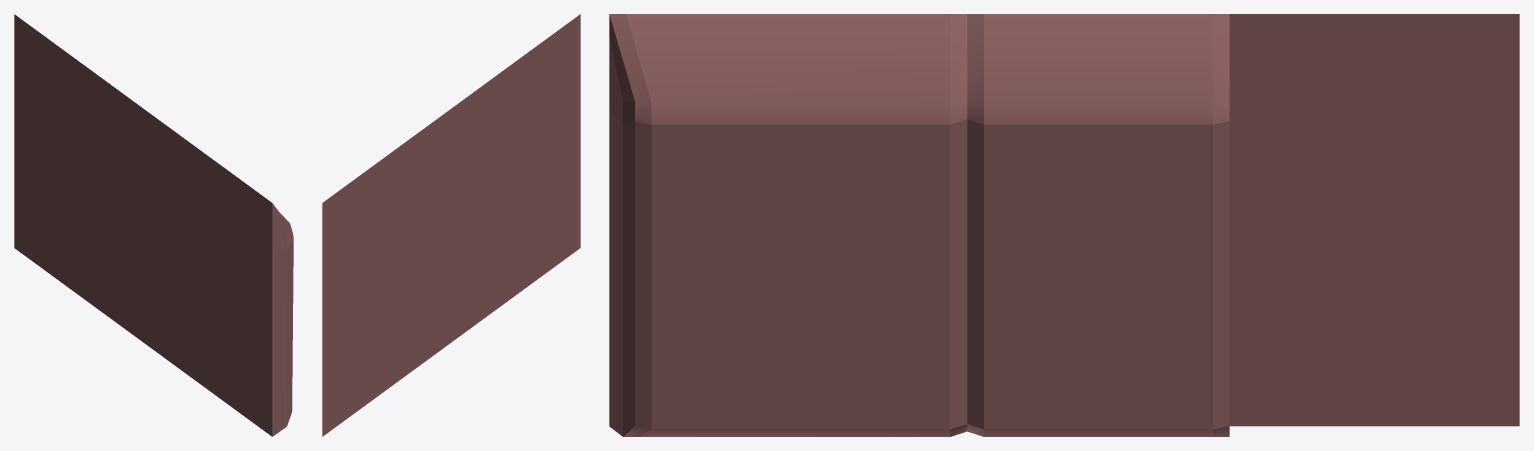
The model's file is Module_Ss_wall_A2.FBX.
3 renders of one model, left to right at view 1: azimuth 30°, elevation 25°; view 2: azimuth 150°, elevation 25°; view 3: azimuth 270°, elevation 25°, orthographic. The views are drawn at different scales.
Parts seen in each view (by area): view 1: Module_Ss_wall_A2; view 2: Module_Ss_wall_A2; view 3: Module_Ss_wall_A2.
Part boxes in pixels (x1,y1,x2,y2): Module_Ss_wall_A2: (14,14,293,436); Module_Ss_wall_A2: (322,14,580,436); Module_Ss_wall_A2: (609,14,1519,436).
Size of the model in its own units: 5.72 by 39.37 by 78.74.
